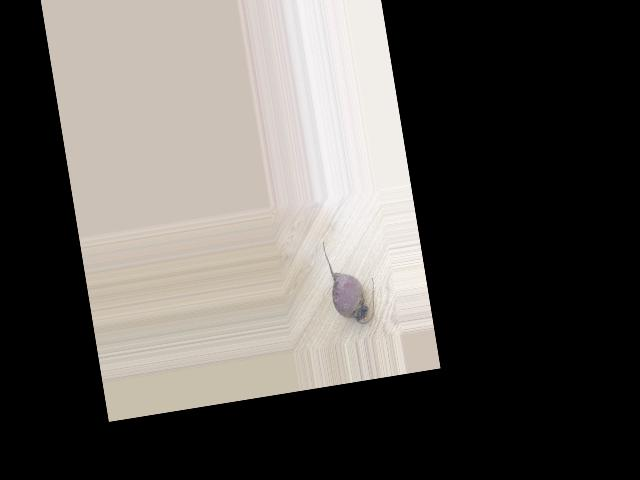beet: (321, 233, 379, 328)
